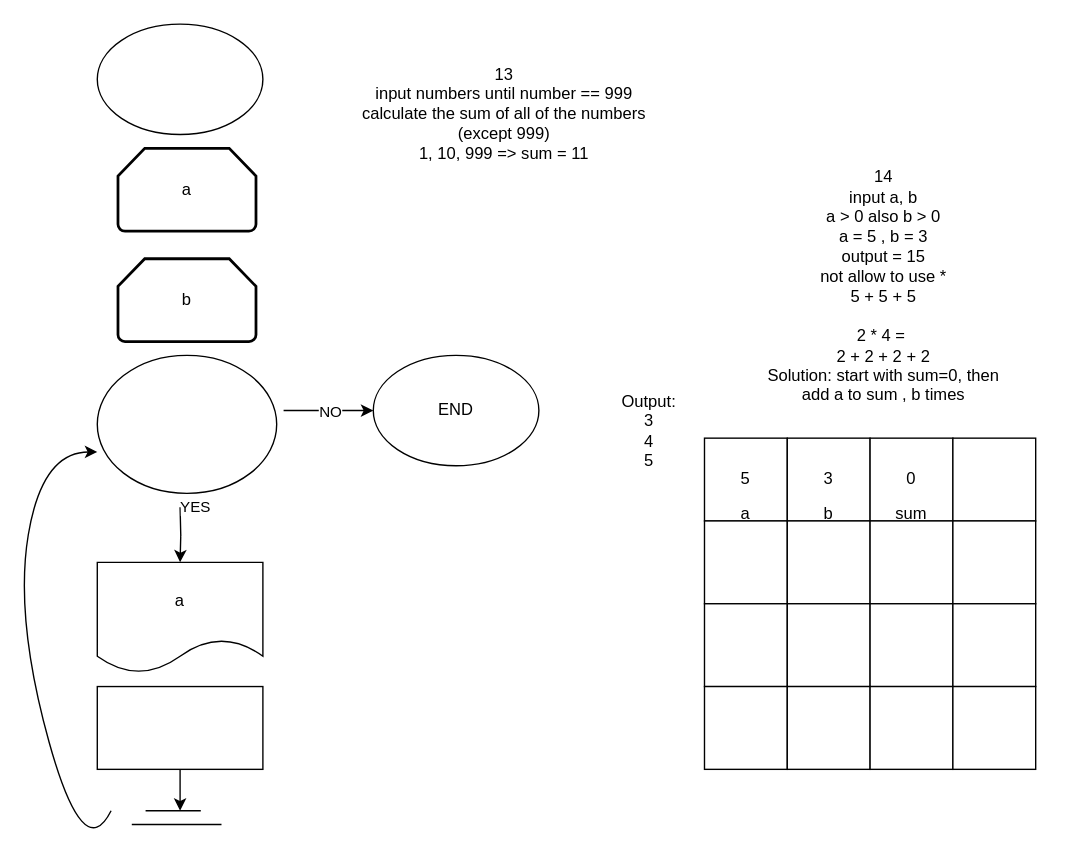
Some shapes in this 1087 by 853 pixel diagram are drawn without their labels. Each missing label, with the box of its shape:
a += 1: (96, 685, 263, 769)
a <= b: (96, 354, 277, 493)
START: (96, 23, 263, 135)
